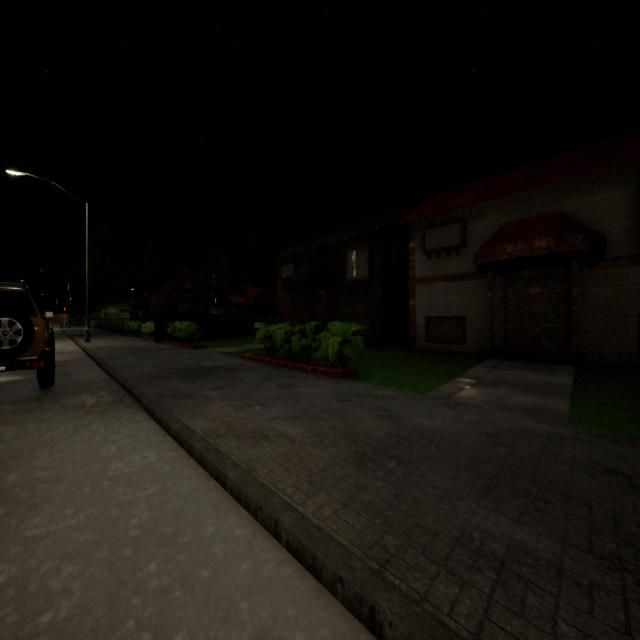Vehicle: (0, 282, 55, 389)
traffic_light: (63, 304, 66, 312)
